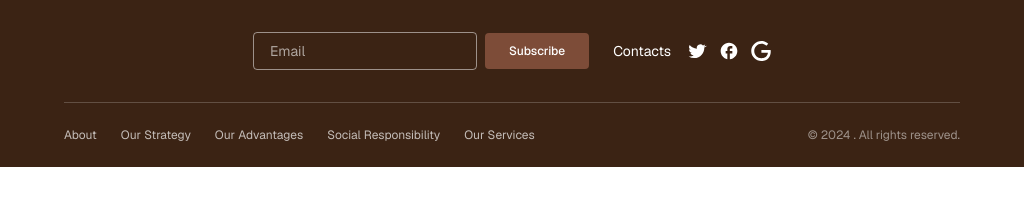
Footer Subscription Form — Formik Validation › should show duplicate email error from API
Step 1. Type "existing@email.com" into the field with placeholder "Email" → (365, 51), box [253, 32, 477, 70]
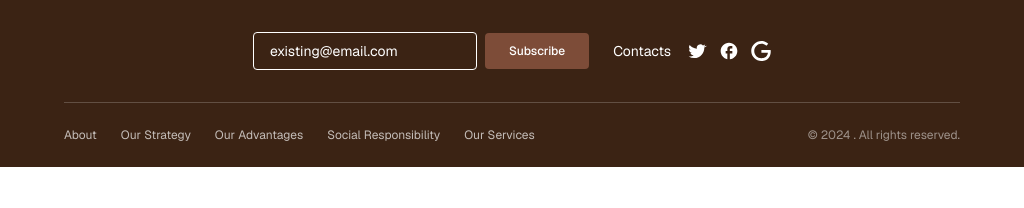
Step 2. Click the button "Subscribe" → (537, 51), box [485, 33, 589, 69]
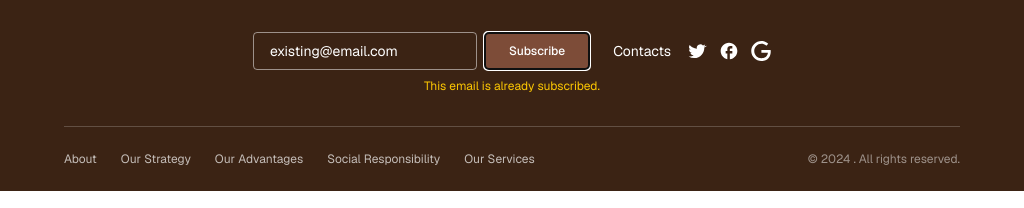
Now the text "This email is already subscribed." is shown, box [424, 78, 600, 94]
